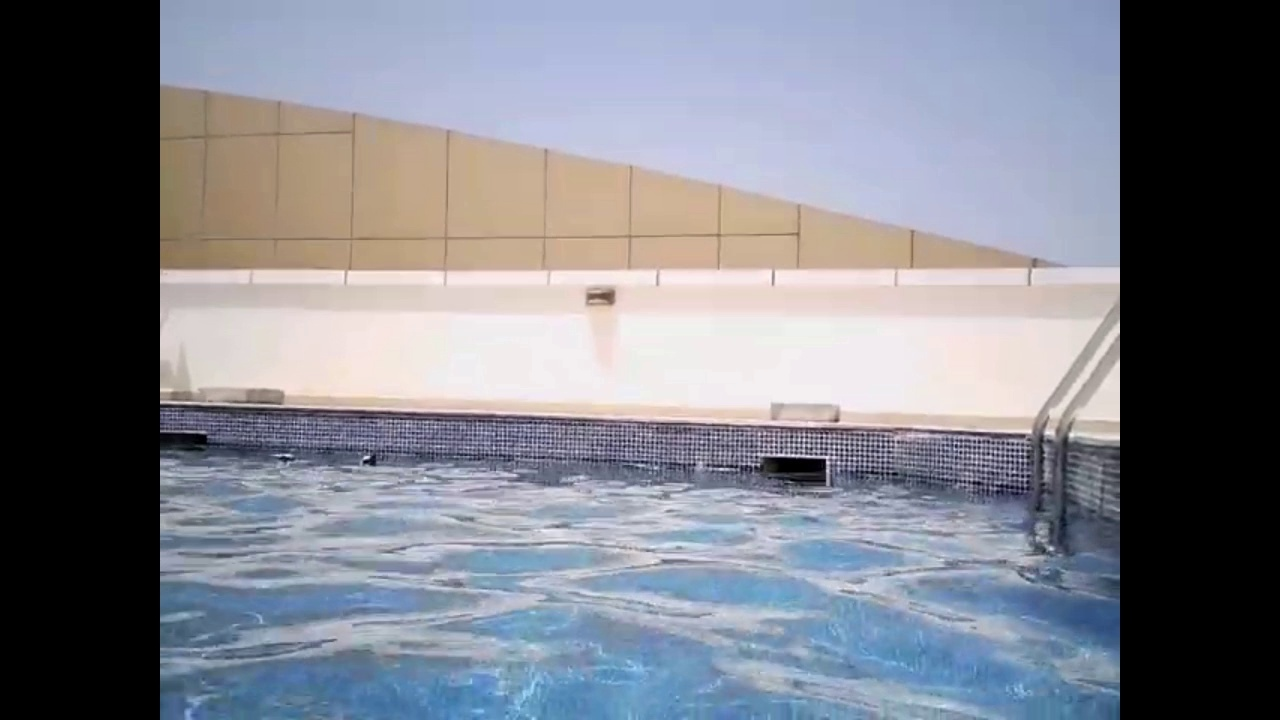debris: (269, 448, 296, 465), (358, 451, 383, 467)
